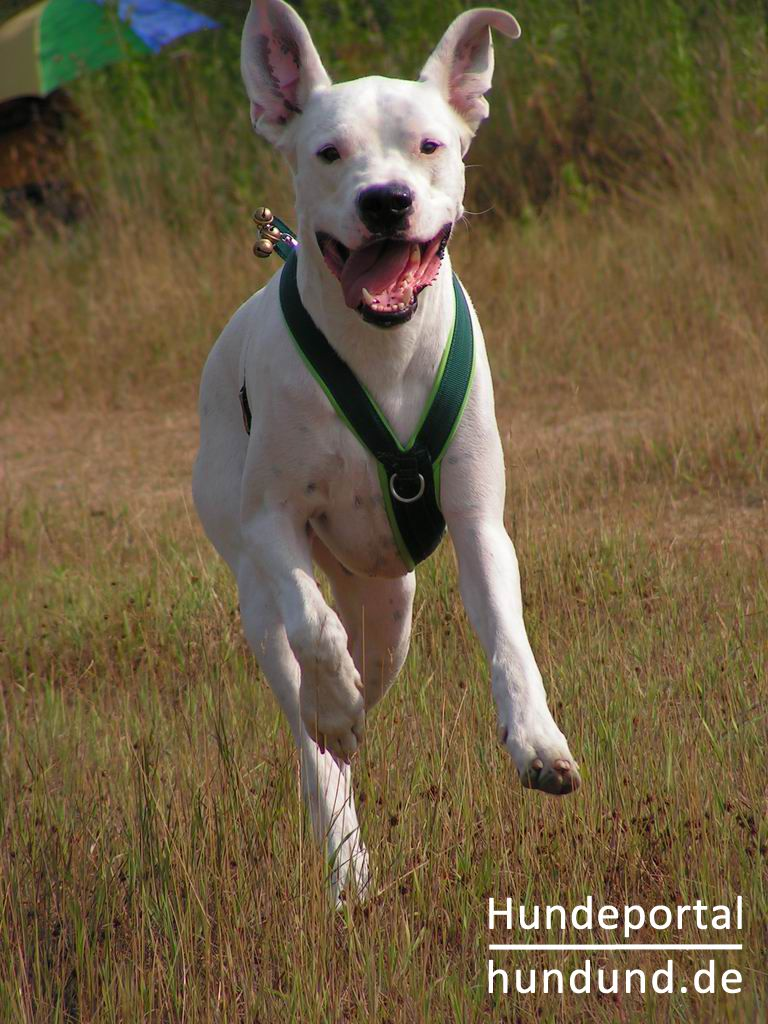dogo_argentino: (190, 0, 581, 920)
